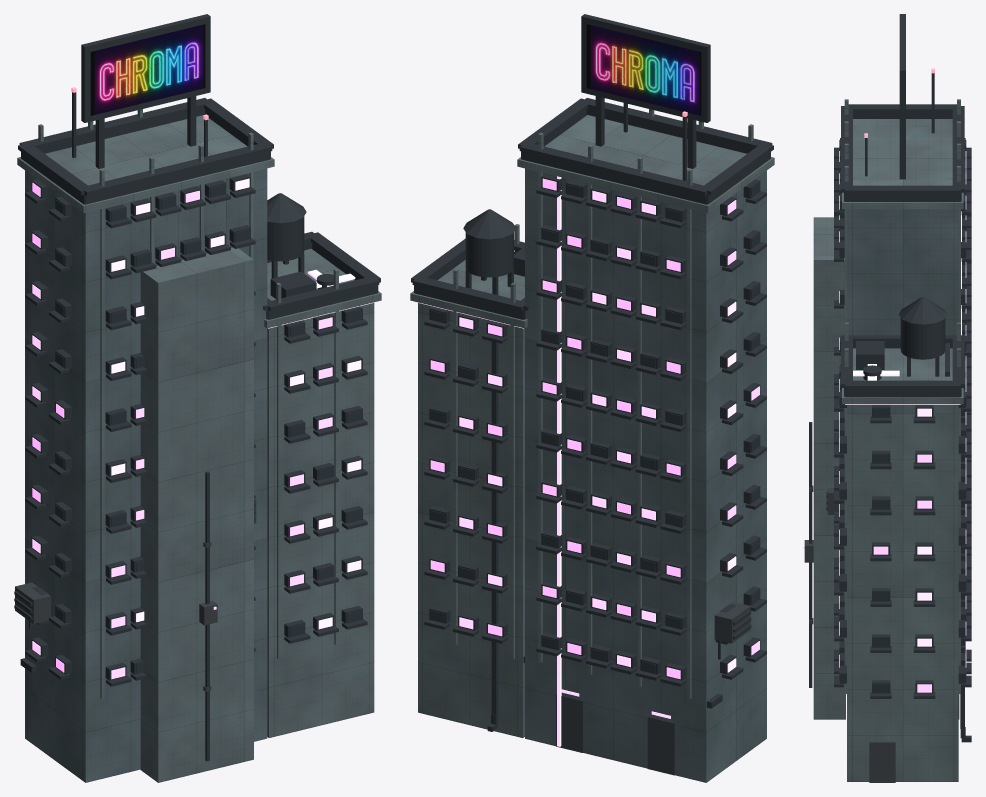
The model's file is synthwave-mega-slab-b.glb.
The picture shows the model from 3 angles, left to right: view 1: azimuth 30°, elevation 25°; view 2: azimuth 150°, elevation 25°; view 3: azimuth 270°, elevation 25°; orthographic projection. The views are drawn at different scales.
Parts seen in each view (by area): view 1: MegaSlab_Body2, SlabHi, MegaSlab_Frame, MegaSlab_SlabBoardArt, MegaSlab_PaneOff, MegaSlab_PaneADim, MegaSlab_Door, MegaSlab_PaneBDim, RK_WaterTank, RK_WaterCap, RK_SlabAC, MegaSlab_PaneB (+1 smaller); view 2: SlabHi, MegaSlab_Frame, MegaSlab_Body2, MegaSlab_SlabBoardArt, MegaSlab_PaneOff, MegaSlab_Door, MegaSlab_PaneBDim, MegaSlab_SlabBand, MegaSlab_PaneADim, RK_WaterTank, MegaSlab_PaneAHot, MegaSlab_PaneB (+1 smaller); view 3: MegaSlab_Body2, MegaSlab_Frame, SlabHi, MegaSlab_Door, RK_WaterTank, MegaSlab_PaneOff, RK_WaterCap, RK_SlabAC, MegaSlab_PaneBDim, MegaSlab_PaneADim, MegaSlab_PaneAHot.
Part boxes in pixels (x1,y1,x2,y2): MegaSlab_Body2: [17, 109, 381, 782]; SlabHi: [25, 168, 267, 782]; MegaSlab_Frame: [14, 14, 380, 761]; MegaSlab_SlabBoardArt: [90, 24, 205, 115]; MegaSlab_PaneOff: [56, 184, 361, 673]; MegaSlab_PaneADim: [32, 178, 361, 629]; MegaSlab_Door: [15, 498, 256, 691]; MegaSlab_PaneBDim: [32, 233, 332, 672]; RK_WaterTank: [267, 216, 304, 261]; RK_WaterCap: [267, 193, 306, 223]; RK_SlabAC: [270, 271, 316, 298]; MegaSlab_PaneB: [32, 182, 332, 679]; SlabHi: [525, 168, 766, 782]; MegaSlab_Frame: [411, 14, 773, 731]; MegaSlab_Body2: [410, 109, 774, 778]; MegaSlab_SlabBoardArt: [586, 24, 701, 115]; MegaSlab_PaneOff: [430, 182, 759, 673]; MegaSlab_Door: [556, 601, 750, 775]; MegaSlab_PaneBDim: [488, 178, 759, 679]; MegaSlab_SlabBand: [415, 176, 561, 746]; MegaSlab_PaneADim: [488, 203, 736, 667]; RK_WaterTank: [465, 232, 513, 277]; MegaSlab_PaneAHot: [459, 190, 736, 672]; MegaSlab_PaneB: [430, 200, 736, 654]; MegaSlab_Body2: [813, 99, 963, 781]; MegaSlab_Frame: [809, 14, 971, 742]; SlabHi: [847, 209, 958, 335]; MegaSlab_Door: [804, 485, 959, 782]; RK_WaterTank: [900, 318, 945, 359]; MegaSlab_PaneOff: [839, 140, 966, 692]; RK_WaterCap: [899, 297, 947, 324]; RK_SlabAC: [856, 341, 884, 369]; MegaSlab_PaneBDim: [839, 162, 966, 692]; MegaSlab_PaneADim: [839, 151, 966, 667]; MegaSlab_PaneAHot: [839, 173, 966, 667].
Size of the model in its own units: 1.68 by 3.54 by 0.831.
16 materials, 3 textured.
